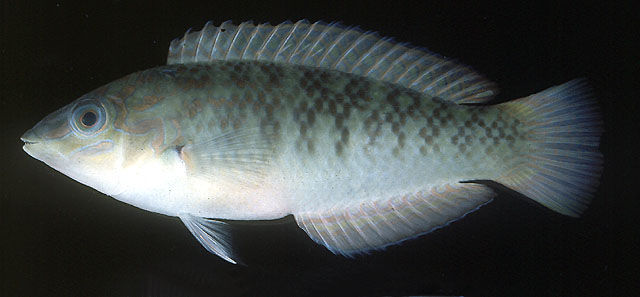fish: (20, 18, 605, 265)
